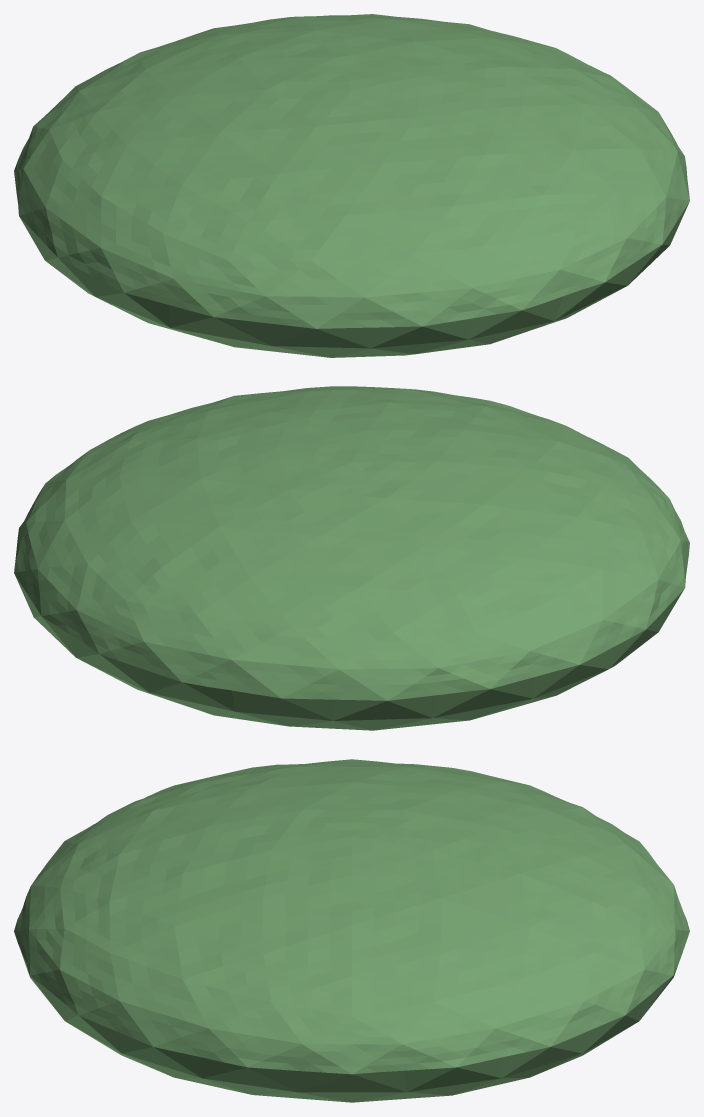
Rendered from Ground 1.fbx.
3 views of the same model, one above another, from view 1: azimuth 30°, elevation 25°; view 2: azimuth 150°, elevation 25°; view 3: azimuth 270°, elevation 25° (orthographic).
Parts seen in each view (by area): view 1: Icosphere.003; view 2: Icosphere.003; view 3: Icosphere.003.
Part boxes in pixels (box(x1,y1,x2,y2)): Icosphere.003: box(14, 14, 689, 357); Icosphere.003: box(14, 386, 689, 730); Icosphere.003: box(14, 759, 689, 1102).
Size of the model in its own units: 12161 by 3782 by 12166.
